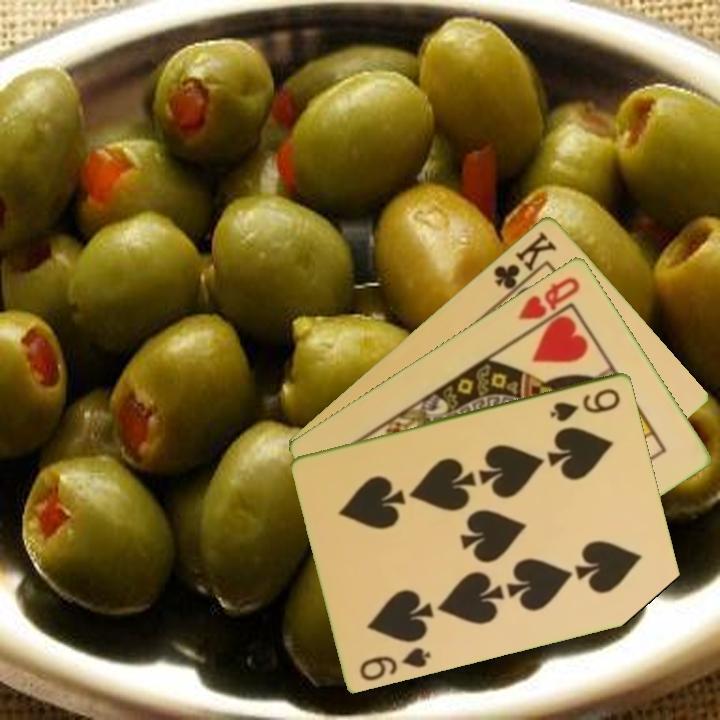9s: (546, 384, 624, 424), (356, 643, 434, 683)
Kc: (490, 227, 560, 300)
Qh: (514, 272, 583, 323)
